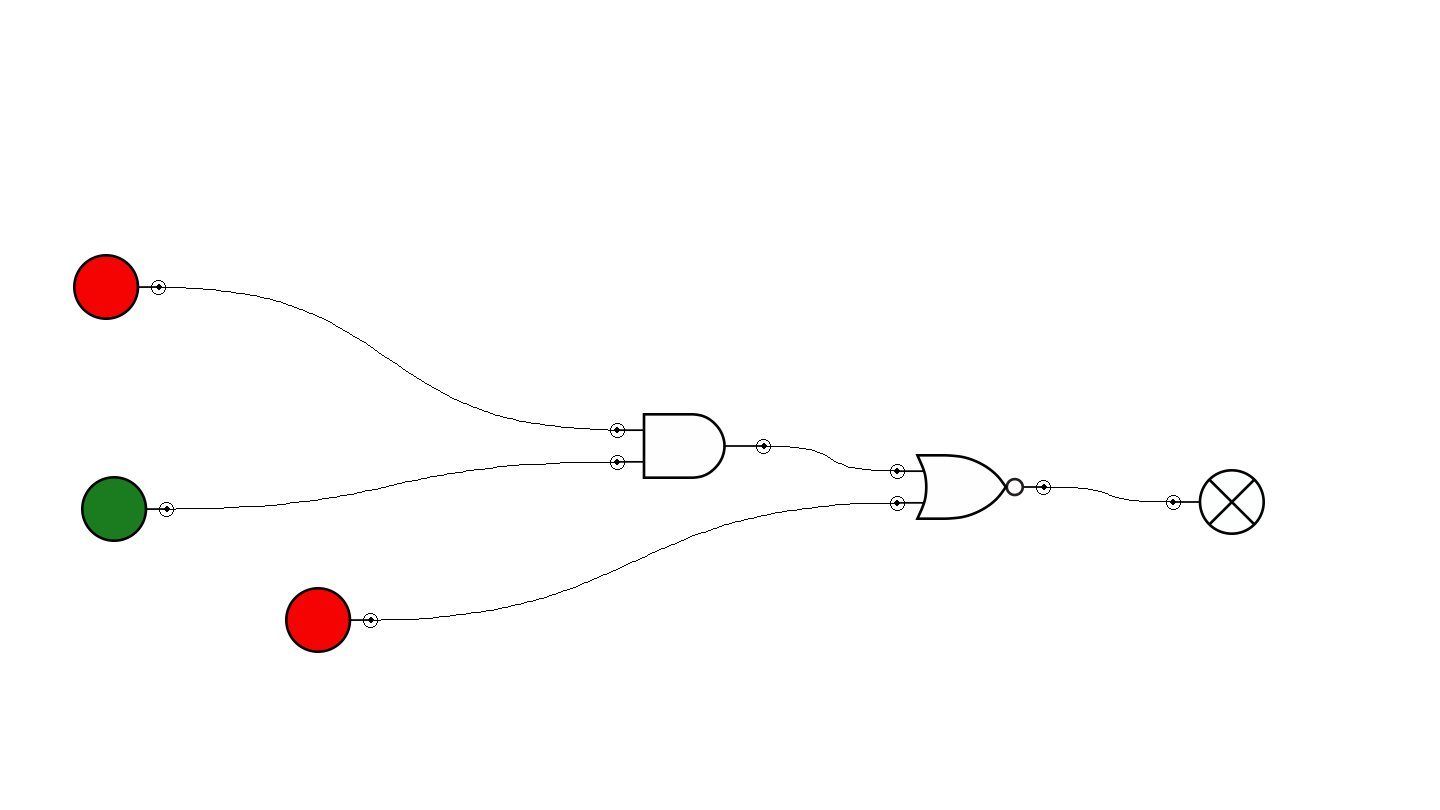and: (610, 413, 771, 479)
bulb: (1166, 469, 1265, 535)
nor: (890, 454, 1051, 520)
switch_False: (285, 587, 378, 653), (73, 254, 166, 320)
switch_True: (81, 476, 174, 542)
